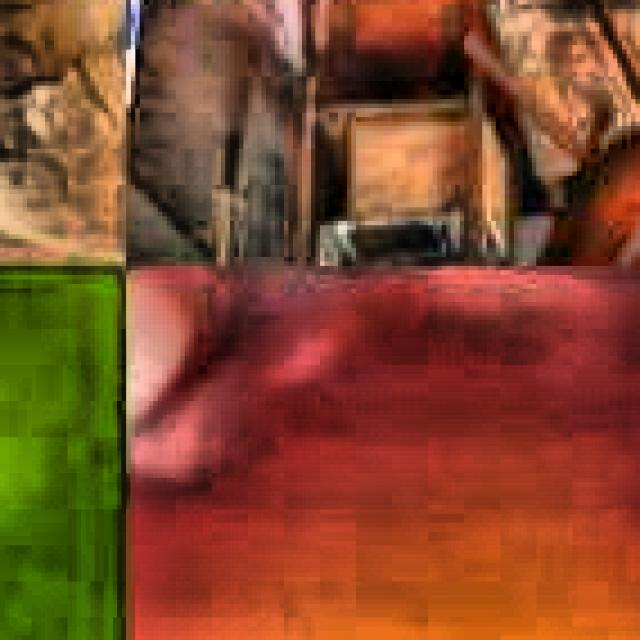onion: (0, 0, 126, 253)
tomato: (126, 266, 640, 640)
